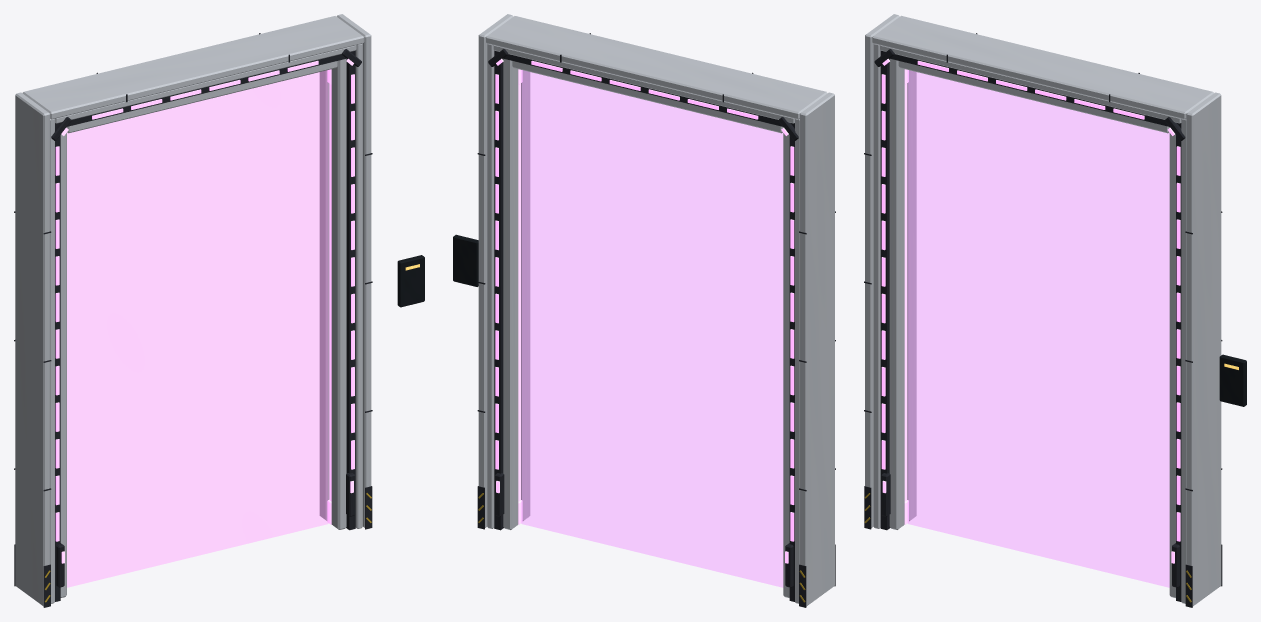
File: rfid_forcefield_door.glb
3 views of the same model, side by side, from view 1: azimuth 30°, elevation 25°; view 2: azimuth 150°, elevation 25°; view 3: azimuth 330°, elevation 25° (orthographic).
Parts seen in each view (by area): view 1: FieldPlane, Frame, FrameInset, Conduits, RFIDPanel, EmitterStrip; view 2: FieldPlane, Frame, FrameInset, Conduits, EmitterStrip, RFIDPanel; view 3: FieldPlane, Frame, FrameInset, Conduits, EmitterStrip, RFIDPanel.
Part boxes in pixels (bbox=[...]): FieldPlane: bbox=[67, 70, 328, 587]; Frame: bbox=[15, 14, 371, 606]; FrameInset: bbox=[14, 33, 372, 607]; Conduits: bbox=[55, 60, 354, 541]; RFIDPanel: bbox=[397, 255, 424, 307]; EmitterStrip: bbox=[329, 83, 331, 501]; FieldPlane: bbox=[521, 70, 783, 587]; Frame: bbox=[478, 14, 834, 606]; FrameInset: bbox=[477, 33, 835, 607]; Conduits: bbox=[495, 60, 794, 541]; EmitterStrip: bbox=[518, 83, 520, 501]; RFIDPanel: bbox=[453, 234, 478, 286]; FieldPlane: bbox=[907, 70, 1169, 587]; Frame: bbox=[865, 14, 1221, 606]; FrameInset: bbox=[864, 33, 1222, 607]; Conduits: bbox=[881, 60, 1180, 541]; EmitterStrip: bbox=[904, 83, 907, 501]; RFIDPanel: bbox=[1219, 354, 1246, 406].
Bounding box in the file's own units: 2.11 × 2.61 × 0.2945.
Materials: 9 (9 with a texture image).
